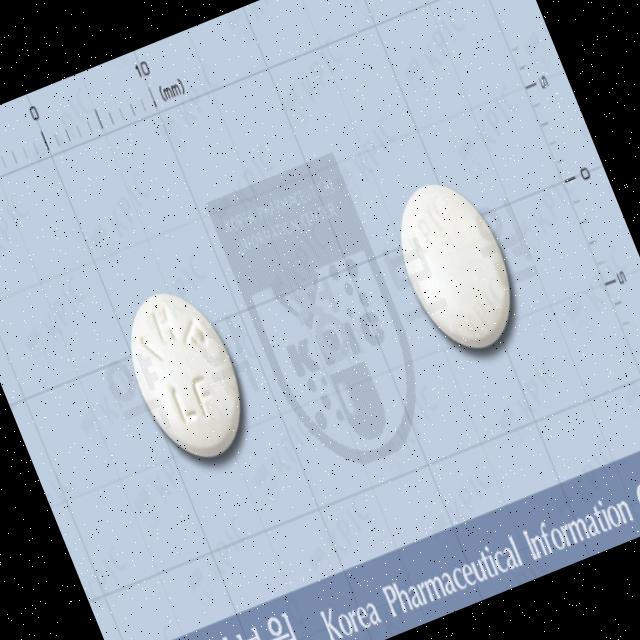Lesacin: (106, 272, 264, 474), (378, 163, 534, 366)
